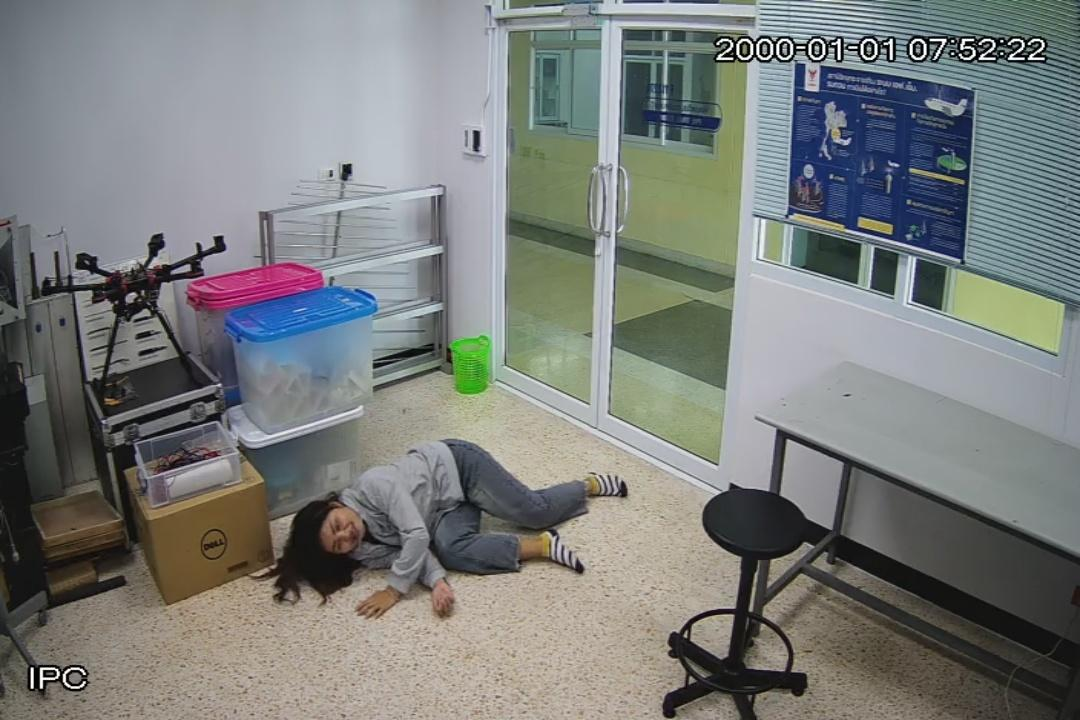fall: (284, 436, 631, 620)
